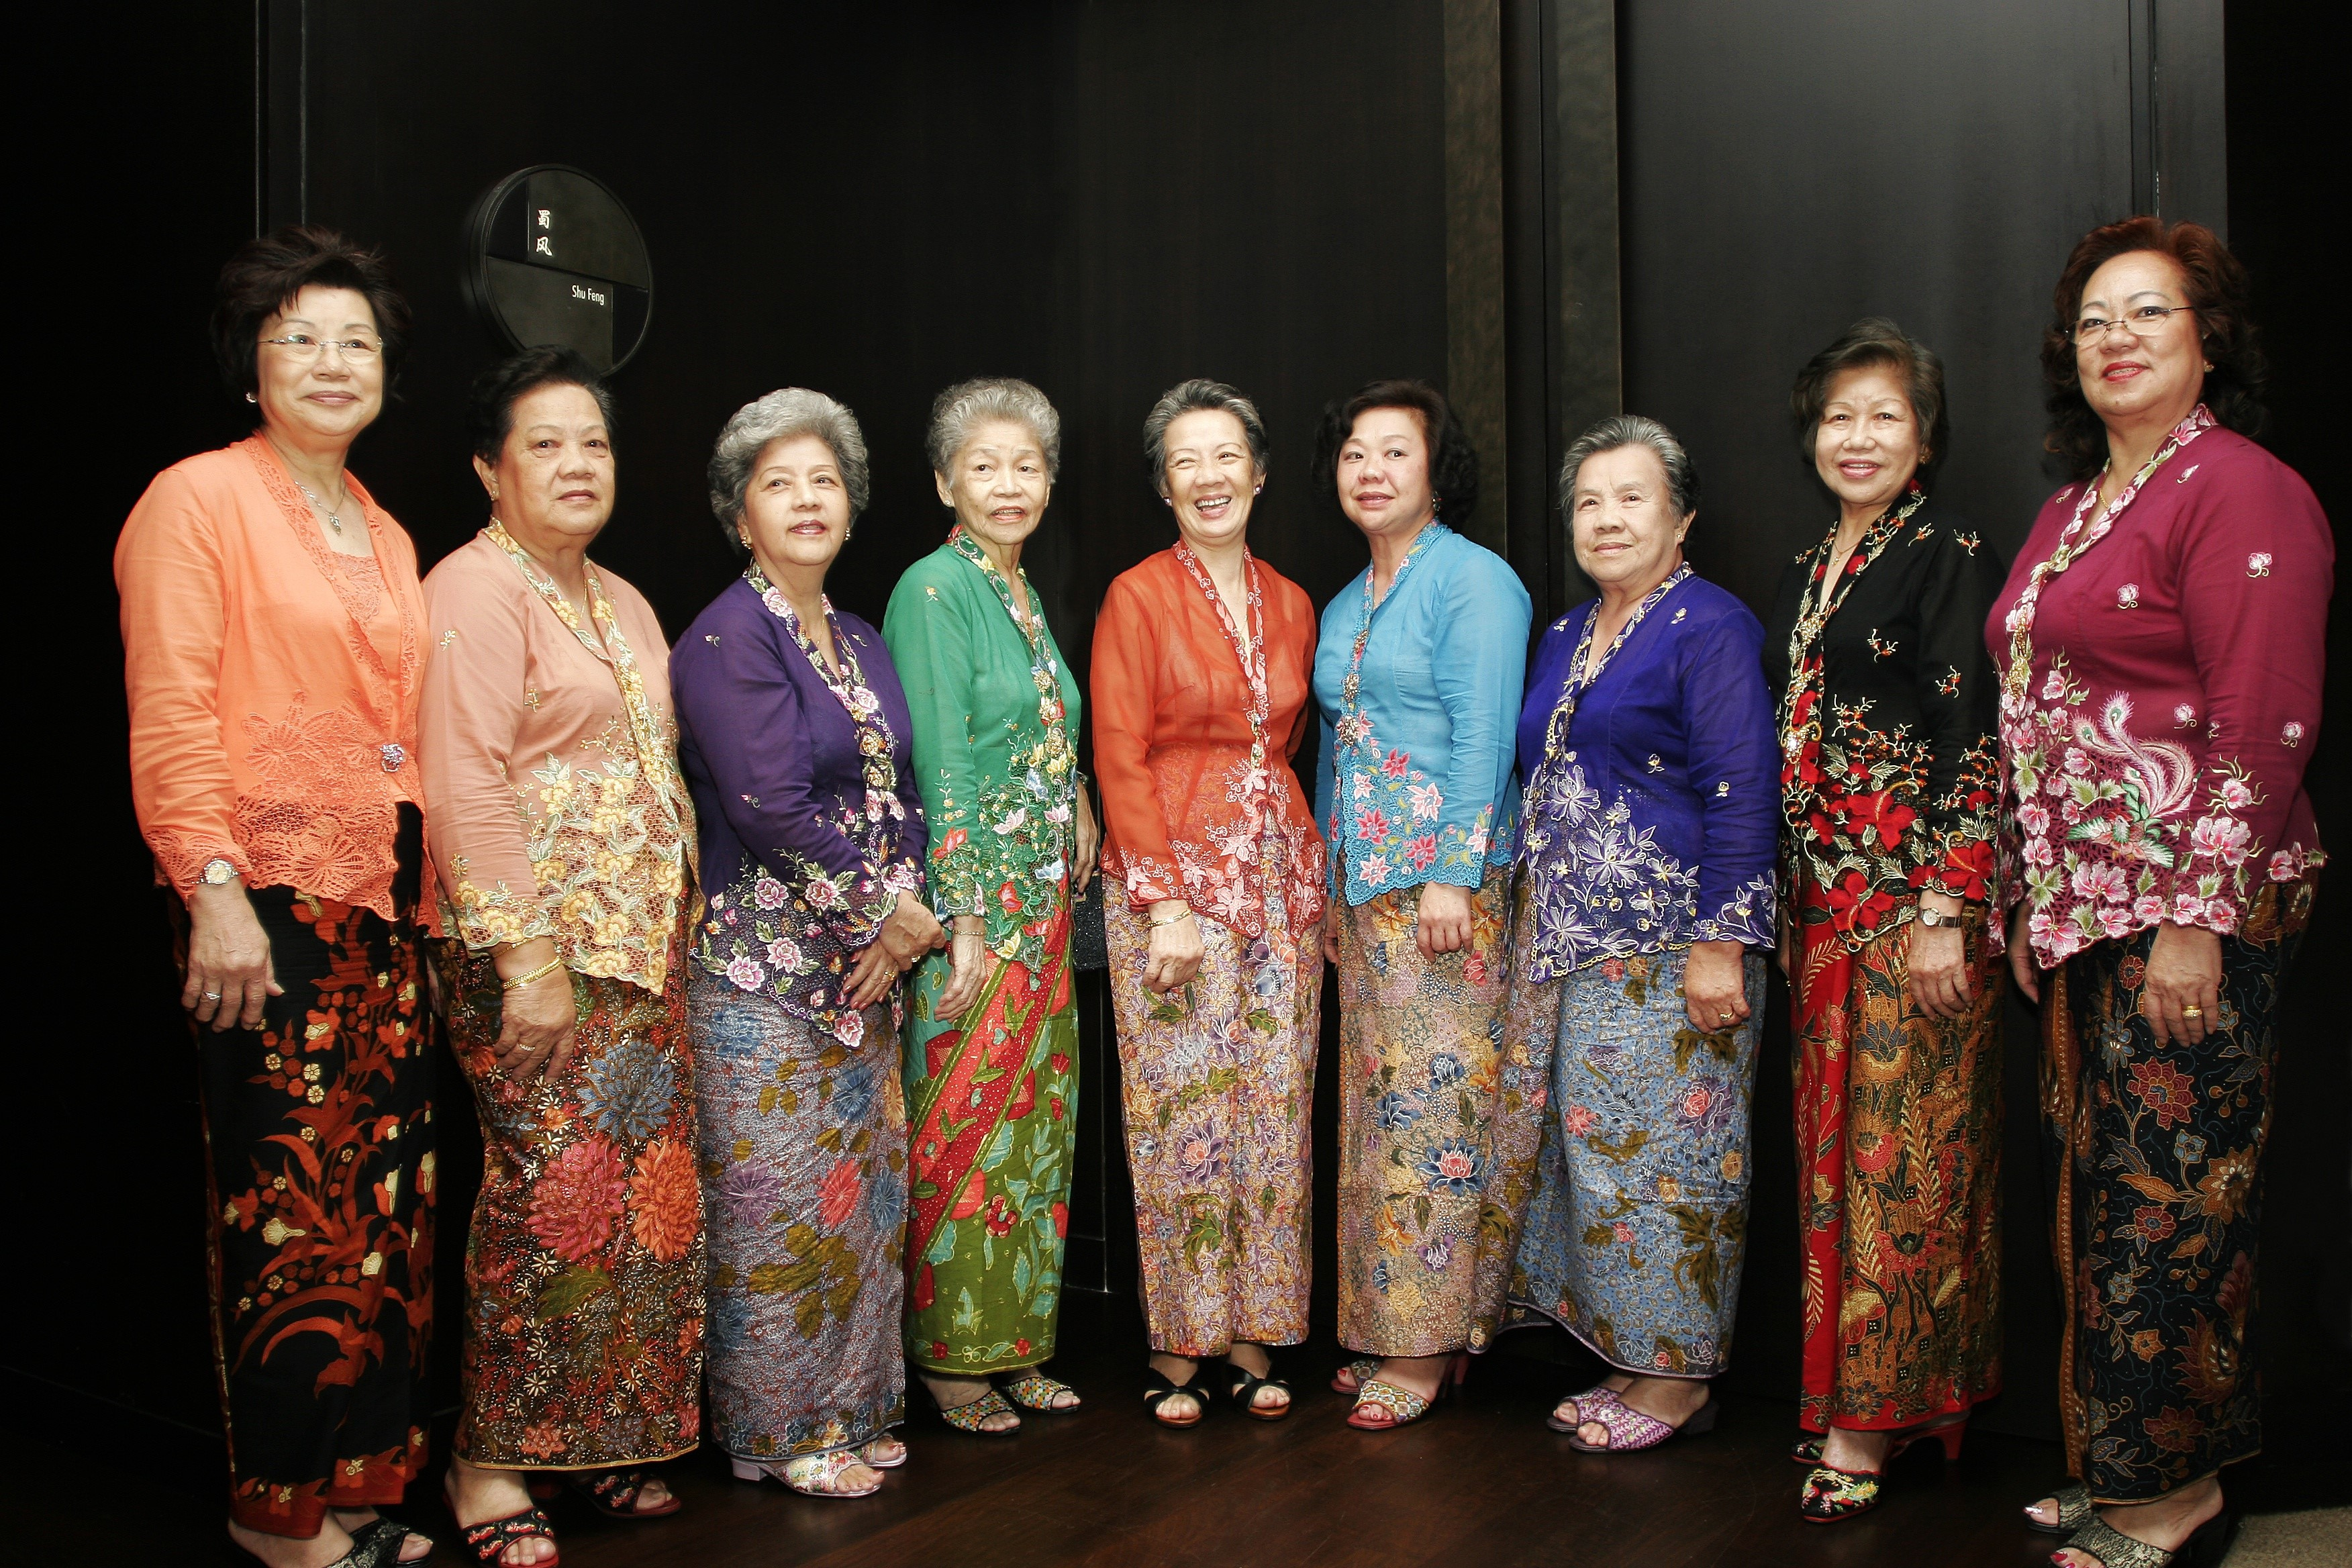face_no_mask: (226, 220, 390, 439), (2074, 222, 2221, 438), (707, 374, 869, 568), (458, 351, 619, 535), (1799, 321, 1942, 502), (1134, 377, 1273, 548), (1557, 411, 1696, 578), (1321, 377, 1474, 522), (933, 381, 1057, 545)
